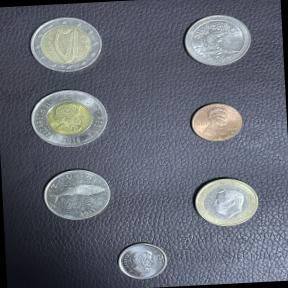coin: (25, 84, 114, 154), (25, 12, 109, 78), (179, 10, 255, 71), (39, 164, 115, 224), (189, 174, 262, 232), (185, 100, 248, 145), (115, 241, 171, 285)
